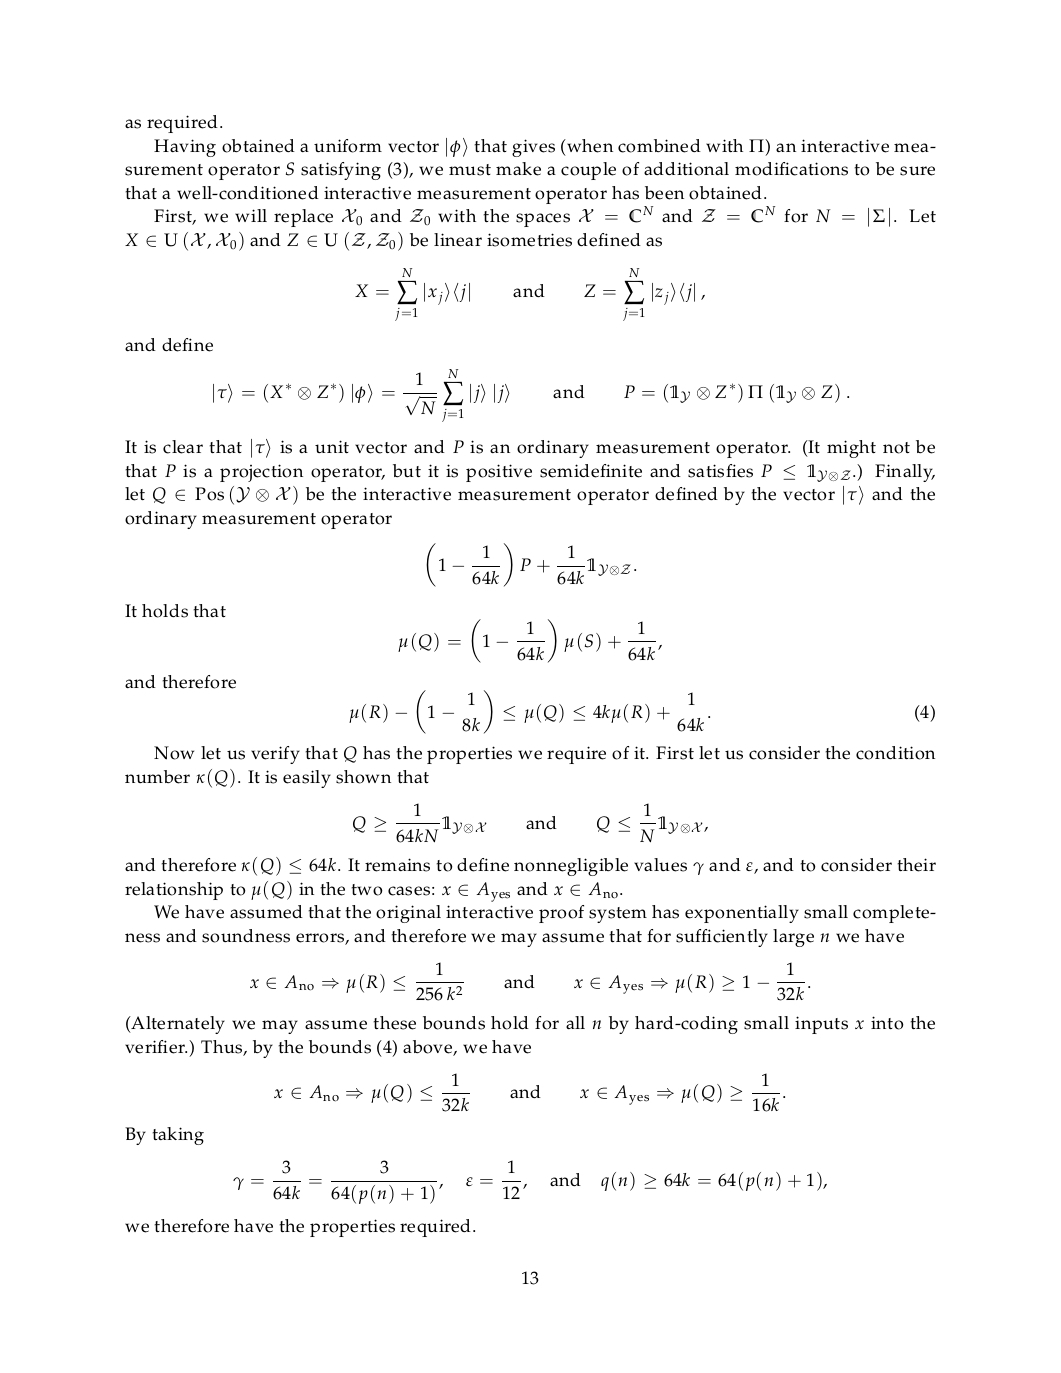formula: (213, 368, 849, 422), (233, 1159, 826, 1204), (250, 961, 810, 1001), (274, 1072, 785, 1112), (356, 267, 704, 320), (349, 690, 710, 733), (353, 802, 707, 843), (398, 619, 661, 662), (426, 542, 636, 587)
